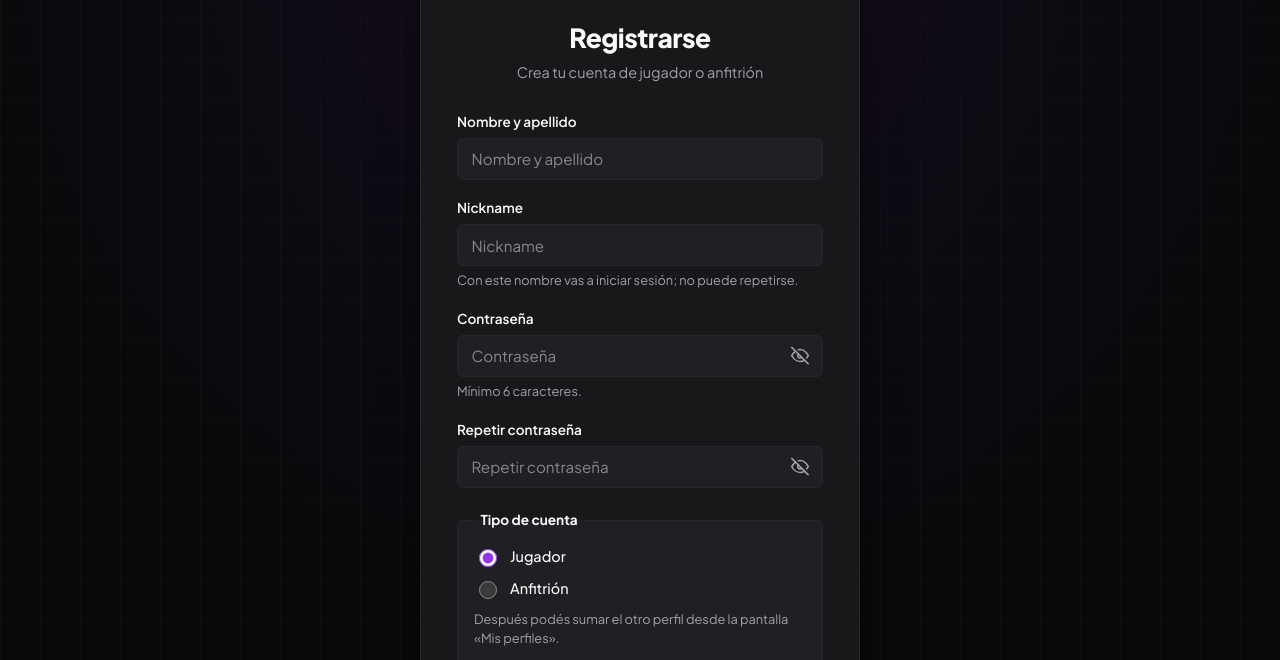
Test: Registro de cuentas › muestra el rechazo del servidor cuando el nickname ya existe
Type "Emanuel Salomón" into the field with placeholder "Nombre y apellido" at x=640, y=159, box 457,138 -> 823,180
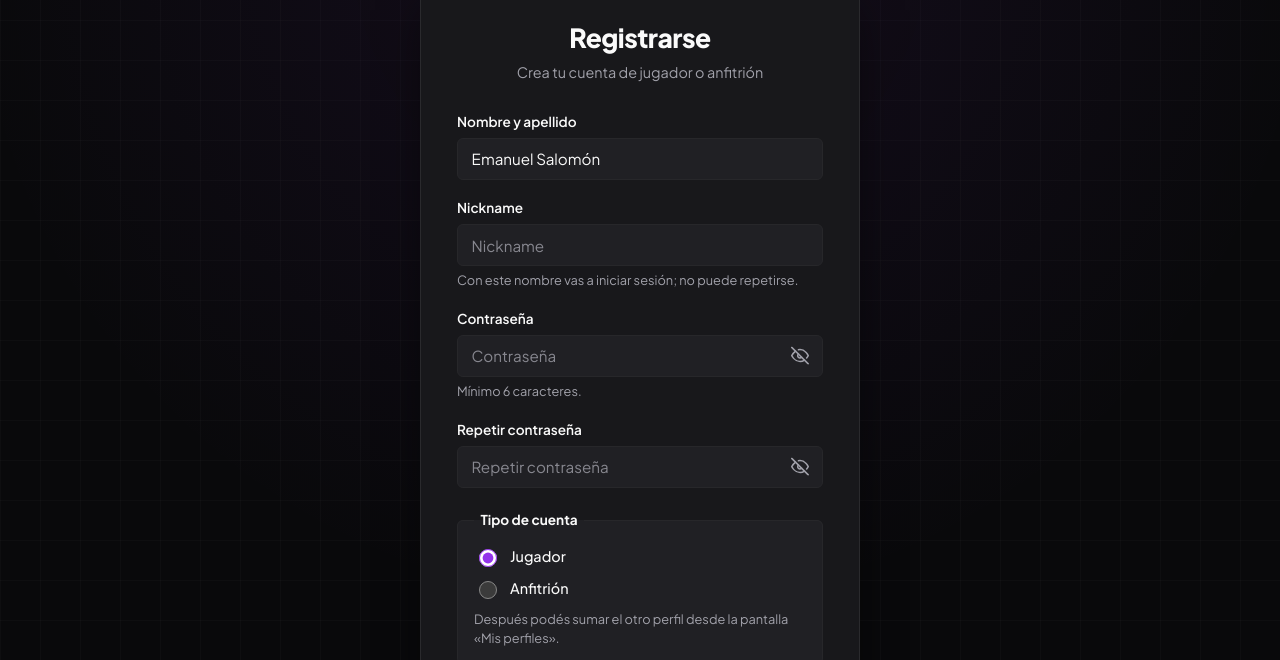
Type "emasalomon" into the field with placeholder "Nickname" at x=640, y=245, box 457,224 -> 823,266
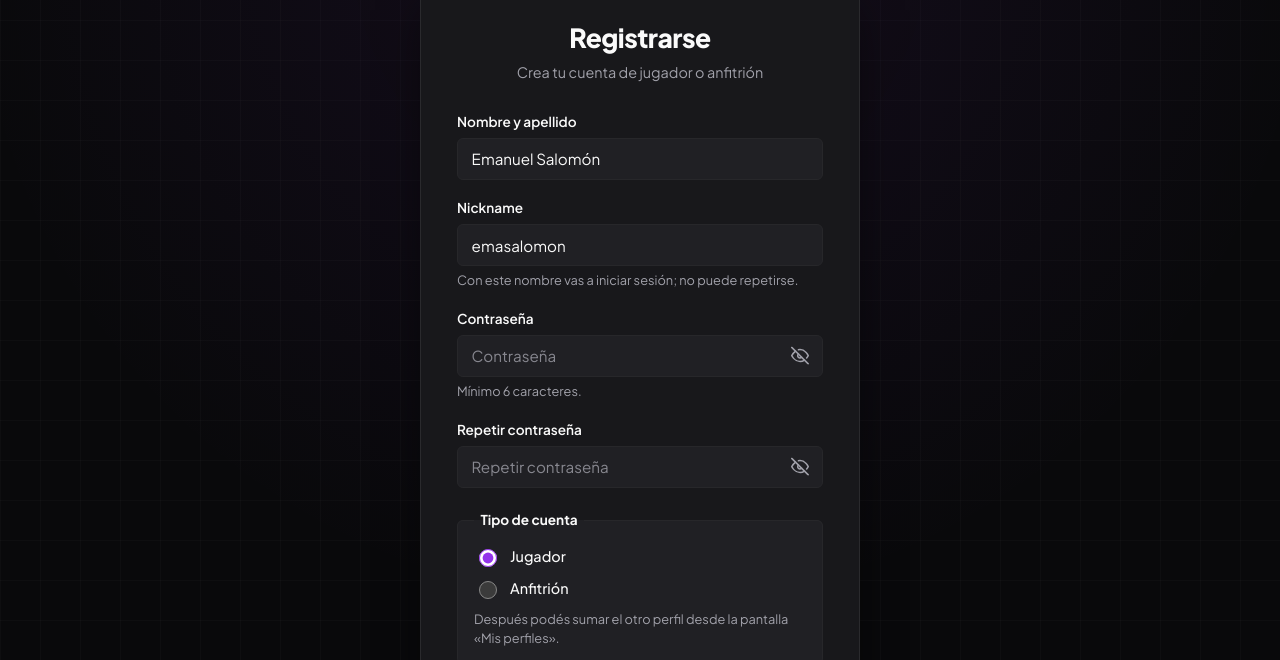
Type "PruebaSegura123" into the password field with placeholder "Contraseña" at x=640, y=356, box 457,335 -> 823,377
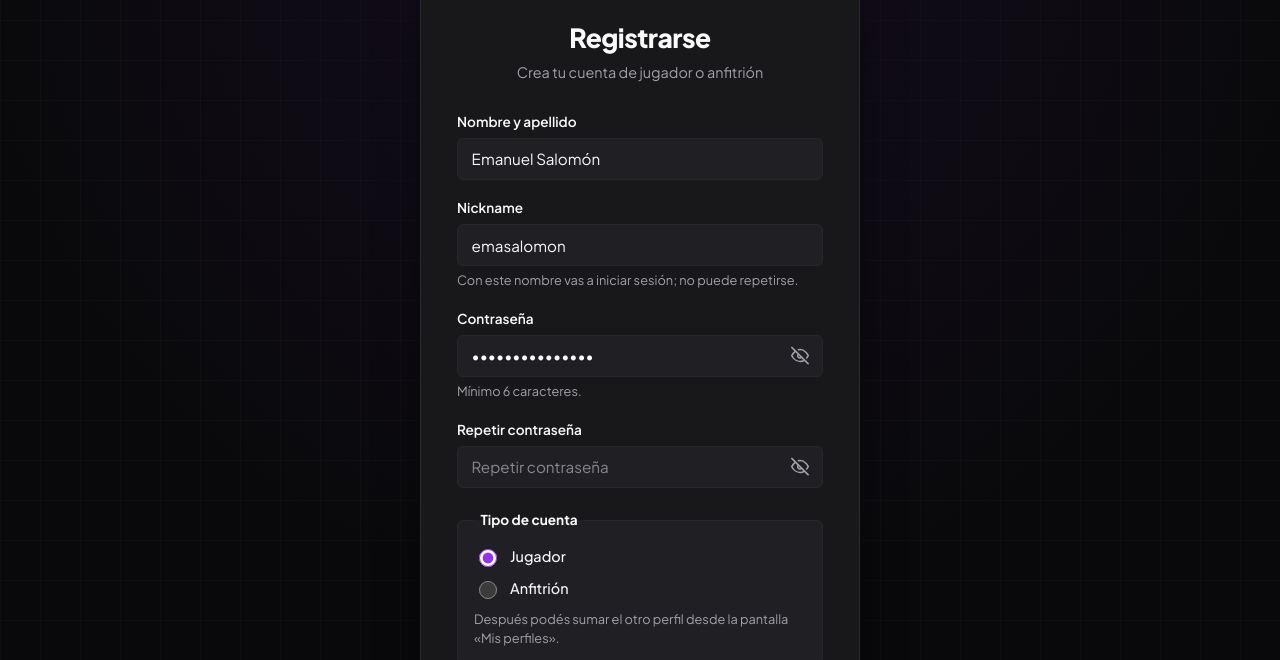
Type "PruebaSegura123" into the password field with placeholder "Repetir contraseña" at x=640, y=467, box 457,446 -> 823,488
(page scrolled)
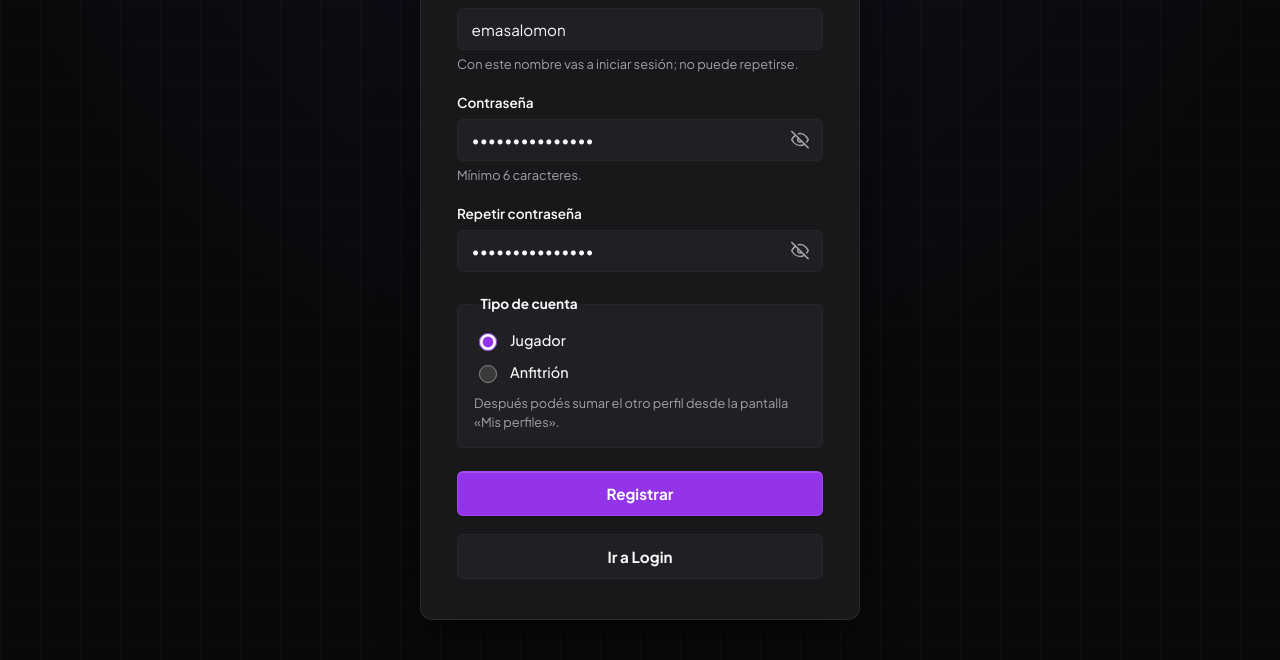
Click the button "Registrar" at x=640, y=493, box 457,471 -> 823,516
(page scrolled)
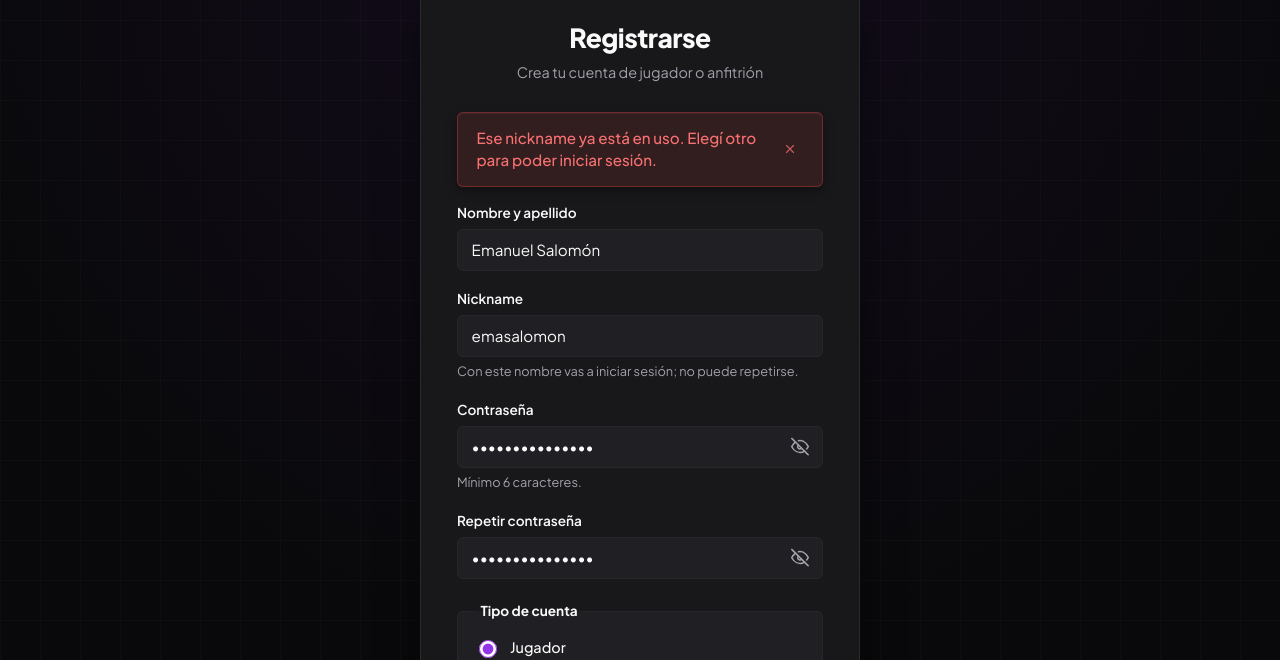
Check: the text "Ese nickname ya está en uso" is shown, box 476,128 -> 756,169
